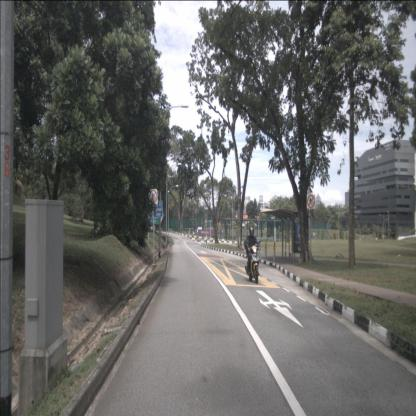vehicle-motorcycle: (244, 227, 260, 284)
